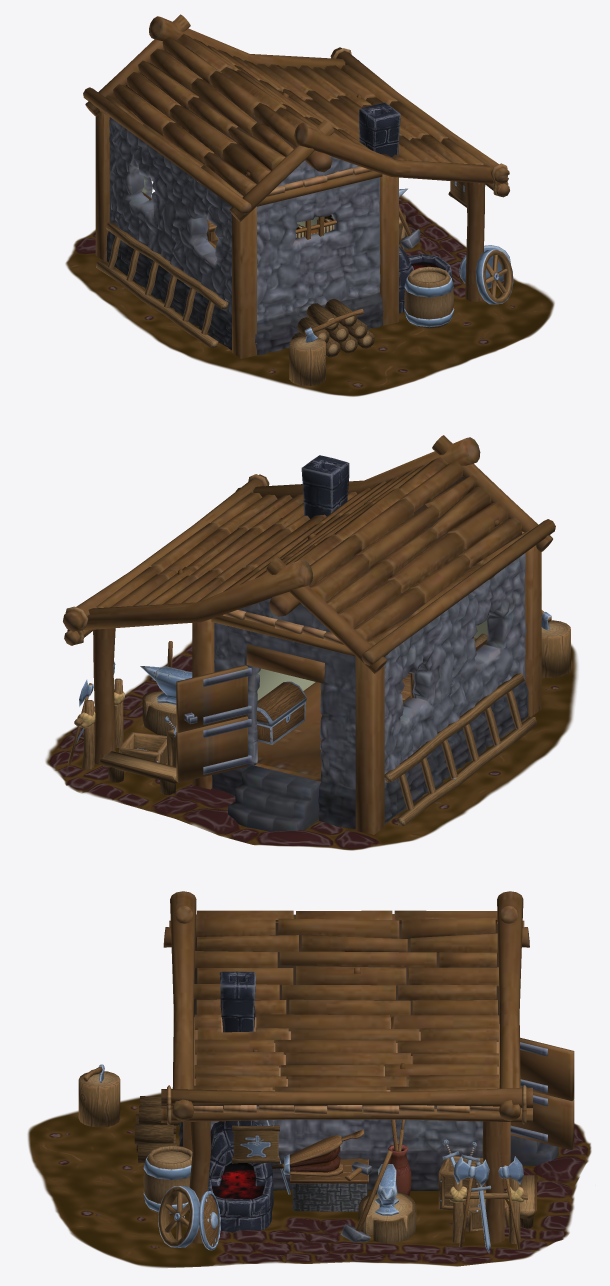
File: bld_forge.glb
3 renders of one model, top to bottom at view 1: azimuth 30°, elevation 25°; view 2: azimuth 150°, elevation 25°; view 3: azimuth 270°, elevation 25°, orthographic. The views are drawn at different scales.
Visible parts, largest first — view 1: RoofSupport_low_blacksmithsMat_0, Ground_high_GroundMat_0, StumpAnvil_low_WoodExteriorMat_0, WorkbenchWood_low_ForgeMat_0, Anvil_low_WeaponsToolsMat_0; view 2: RoofSupport_low_blacksmithsMat_0, Ground_high_GroundMat_0, StumpAnvil_low_WoodExteriorMat_0, Table_low_FurnitureMat_0, WorkbenchWood_low_ForgeMat_0, Anvil_low_WeaponsToolsMat_0; view 3: RoofSupport_low_blacksmithsMat_0, Ground_high_GroundMat_0, StumpAnvil_low_WoodExteriorMat_0, WorkbenchWood_low_ForgeMat_0, Anvil_low_WeaponsToolsMat_0.
Boxes of the visible parts, x1,y1,x2,y2 form: RoofSupport_low_blacksmithsMat_0: (83, 14, 509, 358); Ground_high_GroundMat_0: (65, 195, 554, 396); StumpAnvil_low_WoodExteriorMat_0: (96, 181, 513, 385); WorkbenchWood_low_ForgeMat_0: (359, 102, 452, 313); Anvil_low_WeaponsToolsMat_0: (304, 188, 510, 342); RoofSupport_low_blacksmithsMat_0: (63, 435, 555, 834); Ground_high_GroundMat_0: (45, 640, 577, 850); StumpAnvil_low_WoodExteriorMat_0: (74, 620, 570, 825); Table_low_FurnitureMat_0: (256, 633, 487, 744); WorkbenchWood_low_ForgeMat_0: (301, 455, 349, 518); Anvil_low_WeaponsToolsMat_0: (67, 610, 551, 764); RoofSupport_low_blacksmithsMat_0: (161, 891, 574, 1243); Ground_high_GroundMat_0: (28, 1092, 591, 1267); StumpAnvil_low_WoodExteriorMat_0: (78, 1071, 536, 1247); WorkbenchWood_low_ForgeMat_0: (207, 971, 411, 1232); Anvil_low_WeaponsToolsMat_0: (83, 1064, 523, 1253).
Size of the model in its own units: 845 by 484 by 1011.
Materials: 7 (7 with a texture image).
